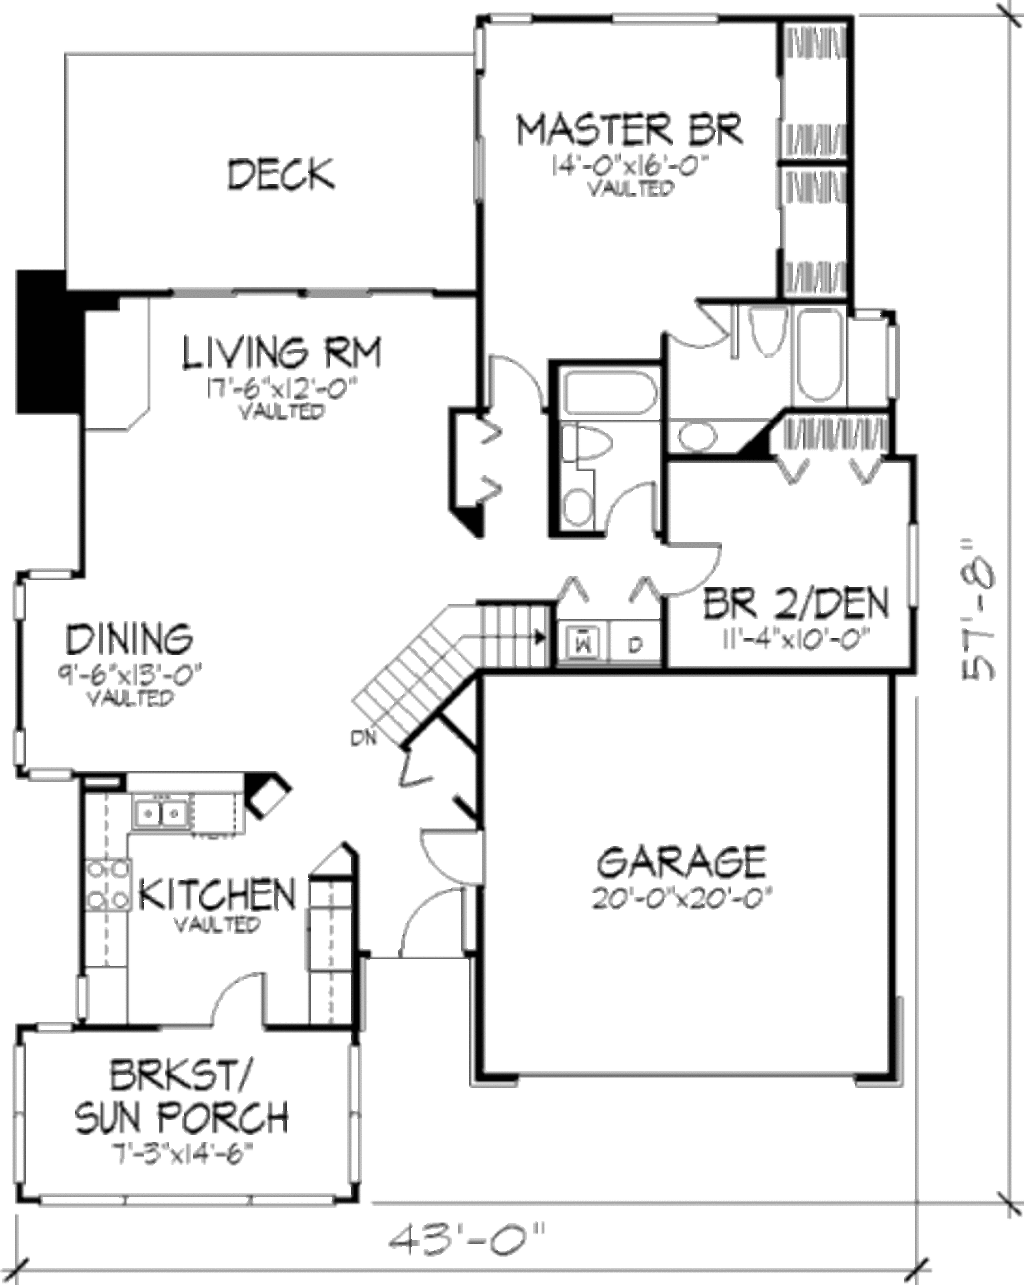door: (392, 881, 478, 963), (418, 815, 488, 891), (478, 347, 544, 421), (670, 297, 742, 365), (208, 965, 270, 1039), (662, 541, 736, 595), (608, 477, 666, 537)
large_sink: (552, 413, 630, 467), (740, 293, 790, 357)
small_sink: (666, 408, 757, 459), (556, 463, 596, 541)
stairs: (334, 595, 560, 757)
tub: (546, 361, 672, 419), (786, 303, 846, 408)
twin_sink: (126, 785, 214, 841)
window: (26, 1185, 344, 1211), (1, 1045, 46, 1183), (340, 1041, 368, 1195), (608, 3, 724, 29), (296, 275, 385, 305), (468, 125, 498, 209), (14, 557, 78, 583), (162, 285, 245, 303), (11, 725, 34, 773)
